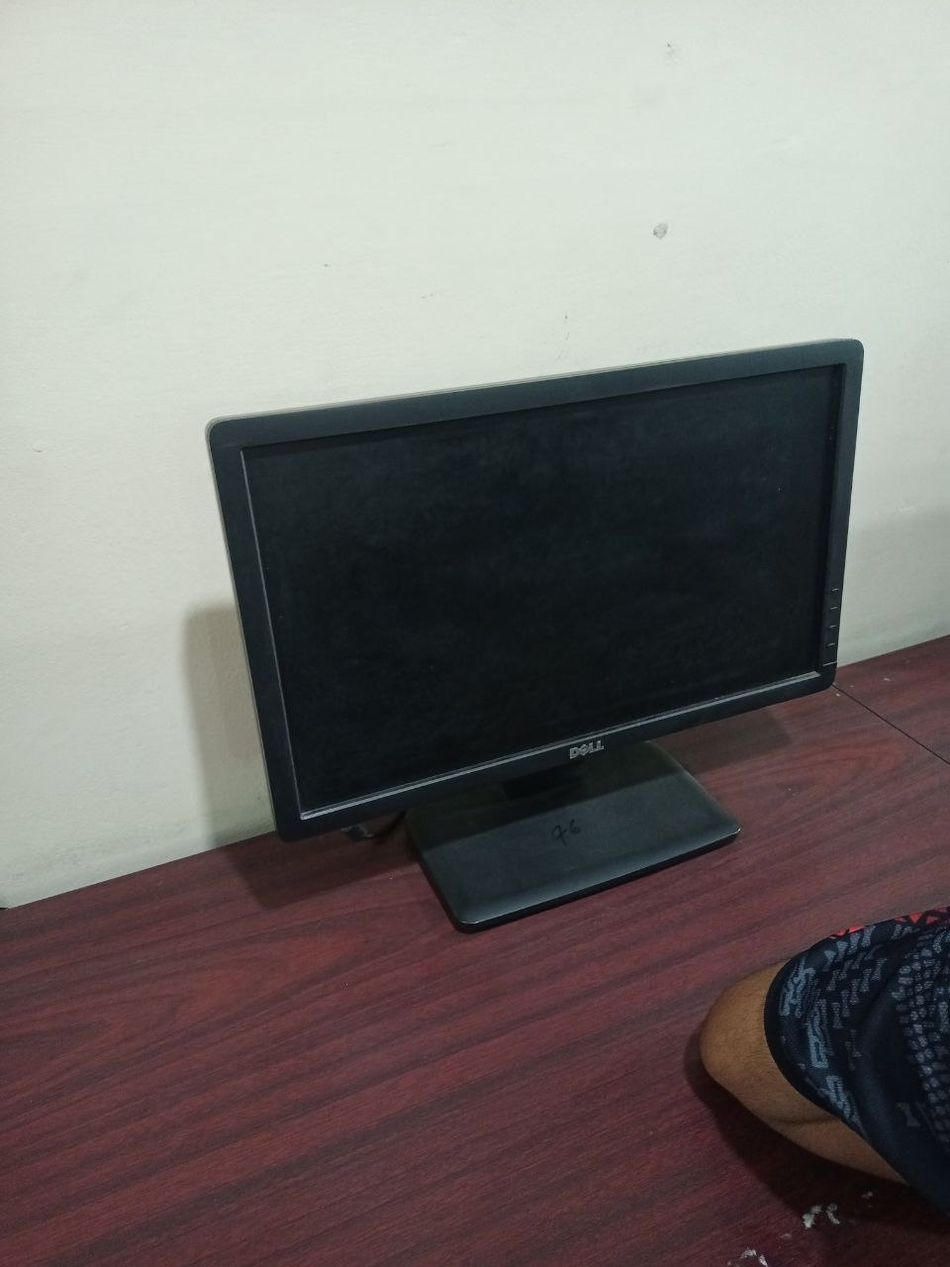computer monitor: (210, 341, 861, 926)
